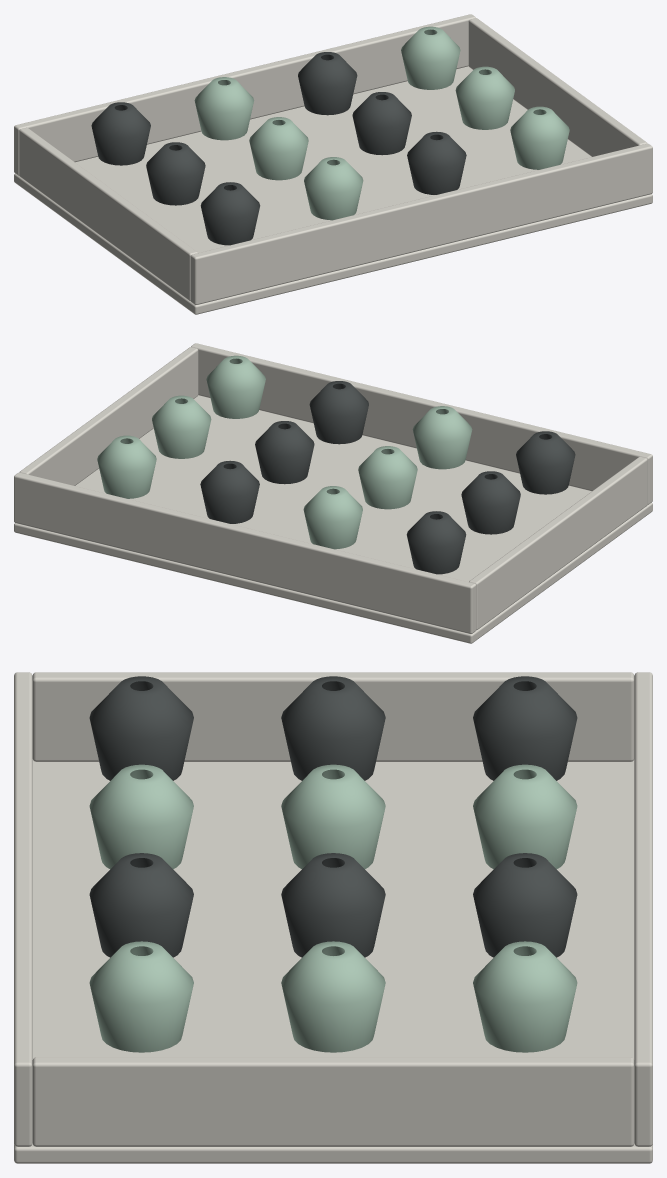
File: hearing-aid-and-audiology-clinic-probe-tip-organizer-711440f8__31733.glb
The picture shows the model from 3 angles, top to bottom: view 1: azimuth 30°, elevation 25°; view 2: azimuth 150°, elevation 25°; view 3: azimuth 270°, elevation 25°; orthographic projection. The views are drawn at different scales.
Parts seen in each view (by area): view 1: probe-tip-organizer; view 2: probe-tip-organizer; view 3: probe-tip-organizer.
Boxes of the visible parts, box(x1,y1,x2,y2) form: probe-tip-organizer: box(14, 14, 652, 314); probe-tip-organizer: box(14, 343, 652, 643); probe-tip-organizer: box(14, 672, 652, 1163).
Bounding box in the file's own units: 0.16 × 0.028 × 0.11.
